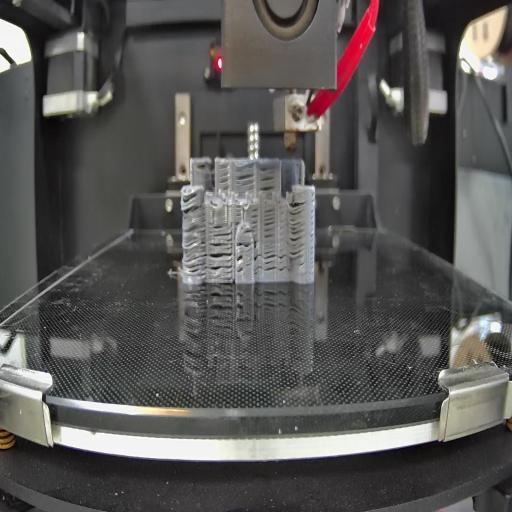cracks: (183, 224, 207, 276), (288, 200, 306, 261), (209, 242, 233, 277), (180, 191, 204, 215), (264, 248, 288, 272), (260, 162, 276, 192), (264, 207, 275, 241), (235, 170, 256, 186), (219, 166, 230, 193), (212, 224, 233, 237), (255, 239, 261, 274), (236, 239, 254, 249), (251, 208, 259, 228), (236, 256, 244, 274), (234, 207, 241, 227), (197, 162, 209, 170), (243, 229, 253, 235)
